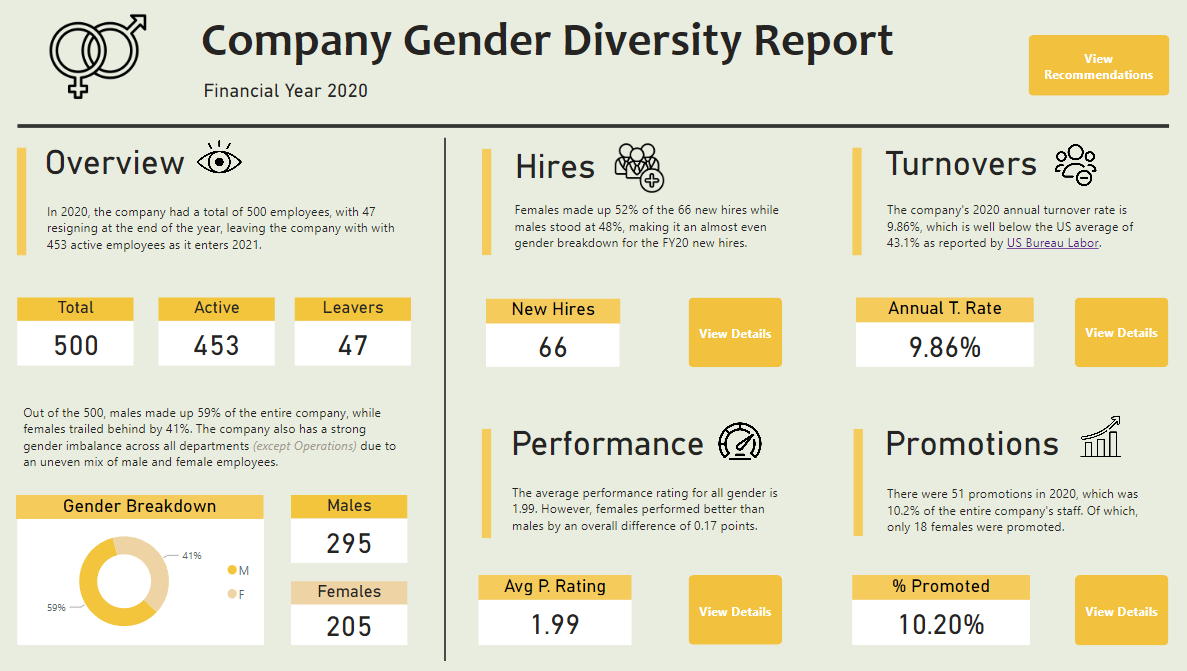

Layout of this report page (visuals, bound fields, positions):
{"tool":"powerbi","page":{"name":"Main Report","canvas":[1280,720],"ordinal":0},"visuals":[{"type":"shape","title":"Company Gender Diversity Report","box":[224.6,16,768.4,67.7],"z":0},{"type":"group","id":"g1","title":"Group 5","box":[27.7,323.2,123,71.3],"z":0,"group":"g11"},{"type":"card","fields":{"Values":["Measures.Employees.FY20 Total Employees All Gender Incl Leavers"]},"box":[27.7,348.1,124.2,47.5],"z":0,"group":"g1"},{"type":"card","fields":{"Values":["Measures.Employees.FY20 Total Employees All Gender Excl Leavers"]},"box":[178.1,348.1,124.2,47.5],"z":0,"group":"g3"},{"type":"card","fields":{"Values":["Measures.Turnover.FY20 Total Leavers All Gender"]},"box":[323.6,348.1,124.2,47.5],"z":0,"group":"g5"},{"type":"card","fields":{"Values":["Measures.Turnover.FY20 % Annual Turnover Rate"]},"box":[922,349.5,189.5,47],"z":0,"group":"g7"},{"type":"card","fields":{"Values":["Measures.Hires.FY20 Total New Hires All Gender"]},"box":[527.7,349.8,142.3,47],"z":0,"group":"g10"},{"type":"donutChart","fields":{"Y":["Measures.Employees.FY20 Total Employees All Gender Incl Leavers"],"Category":["FACT-table.Gender"]},"box":[27.8,557.7,263,136],"z":0,"group":"g6"},{"type":"card","fields":{"Values":["Measures.Employees.FY20 Total Male Employees"]},"box":[319.6,558,124.2,47.5],"z":0,"group":"g4"},{"type":"group","id":"g2","title":"Group 4","box":[319.8,625.7,124,68],"z":0,"group":"g12"},{"type":"card","fields":{"Values":["Measures.Performance.FY20 Avg Perf Rating All Gender"]},"box":[520.6,645.1,162.8,48.2],"z":0,"group":"g9"},{"type":"card","fields":{"Values":["Measures.Promotions.FY20 % of Promoted Employees Against Total Employees"]},"box":[918.1,645.1,189.3,48.2],"z":0,"group":"g8"},{"type":"card","fields":{"Values":["Measures.Employees.FY20 Total Female Employees"]},"box":[319.8,650.2,124.2,44.3],"z":0,"group":"g2"},{"type":"shape","title":"Annual T. Rate","box":[922,323,189.5,26.5],"z":1000,"group":"g7"},{"type":"shape","title":"Total","box":[27.7,323.2,124.2,24.9],"z":1000,"group":"g1"},{"type":"group","id":"g3","title":"Group 5","box":[178.1,323.2,123,71.3],"z":1000,"group":"g11"},{"type":"shape","title":"Active","box":[178.1,323.2,124.2,24.9],"z":1000,"group":"g3"},{"type":"shape","title":"Leavers","box":[323.6,323.2,124.2,24.9],"z":1000,"group":"g5"},{"type":"shape","title":"New Hires","box":[527.7,324.5,143.5,26.5],"z":1000,"group":"g10"},{"type":"shape","box":[521.1,462.2,14.5,117],"z":1000},{"type":"shape","title":"Gender Breakdown","box":[26.5,533.1,264.1,25.3],"z":1000,"group":"g6"},{"type":"group","id":"g4","title":"Group 5","box":[319.6,533.1,124.2,72.4],"z":1000,"group":"g12"},{"type":"shape","title":"Males","box":[319.6,533.1,124.2,24.9],"z":1000,"group":"g4"},{"type":"shape","title":"Avg P. Rating","box":[520.6,618.6,162.8,26.5],"z":1000,"group":"g9"},{"type":"shape","title":"% Promoted","box":[918.1,618.6,189.3,26.5],"z":1000,"group":"g8"},{"type":"shape","title":"Females","box":[319.8,625.7,124.2,24.5],"z":1000,"group":"g2"},{"type":"group","id":"g5","title":"Group 5","box":[323.6,323.2,123,71.3],"z":2000,"group":"g11"},{"type":"shape","box":[918,462,13,114],"z":2000},{"type":"group","id":"g6","title":"Group 1","box":[26.5,533.1,264.3,160.6],"z":2000,"group":"g12"},{"type":"shape","title":"Performance","box":[554,457,242,46],"z":3000},{"type":"shape","title":"Turnovers","box":[953,159,203,46],"z":4000},{"type":"shape","title":"Promotions","box":[953,457,243,46],"z":5000},{"type":"shape","title":"Financial Year 2020","box":[226.4,89.1,399.3,33.9],"z":6000},{"type":"shape","title":"Overview","box":[57.8,156.9,168.4,46.2],"z":7000},{"type":"shape","box":[27.5,120.9,1229.2,37.1],"z":8000},{"type":"shape","box":[27,162,12,115],"z":9000},{"type":"shape","box":[478.9,151.9,11.6,558.2],"z":10000},{"type":"shape","title":"Hires","box":[558.4,161.6,100.1,45.8],"z":11000},{"type":"group","id":"g7","title":"Group 7","box":[922,323,190,73],"z":12000},{"type":"group","id":"g8","title":"Group 8","box":[918.1,618.6,190.8,74.9],"z":13000},{"type":"textbox","box":[950.4,517.4,299.1,68.7],"z":14000},{"type":"textbox","box":[950.4,214.7,299.1,83.2],"z":15000},{"type":"group","id":"g9","title":"Group 9","box":[520.6,618.6,162.8,74.8],"z":16000},{"type":"shape","box":[917,162,13,115],"z":17000},{"type":"group","id":"g10","title":"Group 6","box":[527.7,324.5,142.6,73.1],"z":18000},{"type":"actionButton","box":[1156,323,100,74],"z":19000},{"type":"actionButton","box":[744.1,618.7,100.1,74.8],"z":20000},{"type":"actionButton","box":[1156,618,100,75],"z":21000},{"type":"textbox","box":[551.2,516.2,300.3,84.4],"z":22000},{"type":"group","id":"g11","title":"Group 13","box":[27.7,323.2,419.7,71.2],"z":23000},{"type":"shape","box":[522.3,164.1,12.1,113.4],"z":24000},{"type":"textbox","box":[553.6,214.7,299.1,84.4],"z":25000},{"type":"actionButton","box":[744.1,323.2,100.1,74.8],"z":26000},{"type":"textbox","box":[54.3,215.9,389.5,71.2],"z":27000},{"type":"textbox","box":[28.9,430.6,414.9,84.4],"z":28000},{"type":"image","box":[27.7,9.6,172.5,113.4],"z":29000},{"type":"image","box":[652.7,152.9,77.2,62.7],"z":30000},{"type":"image","box":[1105.2,140.1,102.6,82.3],"z":31000},{"type":"image","box":[767,436.6,63.9,79.6],"z":32000},{"type":"image","box":[1154.3,443.5,57.8,53.5],"z":33000},{"type":"image","box":[214.7,141.1,57.9,62.7],"z":34000},{"type":"group","id":"g12","title":"Group 2","box":[26.5,533.1,417.3,160.4],"z":35000},{"type":"actionButton","box":[1107,42,150,65],"z":36000}]}

Visuals, with their boxes in screenshot pixels (x1, y1, x2, y2), scaled from the page's 1280x720 canvas onto the 1187x671 screenshot:
"Company Gender Diversity Report" shape: {"x1": 208, "y1": 15, "x2": 921, "y2": 78}
"Group 5" group: {"x1": 26, "y1": 301, "x2": 140, "y2": 368}
card - Measures.Employees.FY20 Total Employees All Gender Incl Leavers: {"x1": 26, "y1": 324, "x2": 141, "y2": 369}
card - Measures.Employees.FY20 Total Employees All Gender Excl Leavers: {"x1": 165, "y1": 324, "x2": 280, "y2": 369}
card - Measures.Turnover.FY20 Total Leavers All Gender: {"x1": 300, "y1": 324, "x2": 415, "y2": 369}
card - Measures.Turnover.FY20 % Annual Turnover Rate: {"x1": 855, "y1": 326, "x2": 1031, "y2": 370}
card - Measures.Hires.FY20 Total New Hires All Gender: {"x1": 489, "y1": 326, "x2": 621, "y2": 370}
donutChart - Measures.Employees.FY20 Total Employees All Gender Incl Leavers x FACT-table.Gender: {"x1": 26, "y1": 520, "x2": 270, "y2": 646}
card - Measures.Employees.FY20 Total Male Employees: {"x1": 296, "y1": 520, "x2": 412, "y2": 564}
"Group 4" group: {"x1": 297, "y1": 583, "x2": 412, "y2": 646}
card - Measures.Performance.FY20 Avg Perf Rating All Gender: {"x1": 483, "y1": 601, "x2": 634, "y2": 646}
card - Measures.Promotions.FY20 % of Promoted Employees Against Total Employees: {"x1": 851, "y1": 601, "x2": 1027, "y2": 646}
card - Measures.Employees.FY20 Total Female Employees: {"x1": 297, "y1": 606, "x2": 412, "y2": 647}
"Annual T. Rate" shape: {"x1": 855, "y1": 301, "x2": 1031, "y2": 326}
"Total" shape: {"x1": 26, "y1": 301, "x2": 141, "y2": 324}
"Group 5" group: {"x1": 165, "y1": 301, "x2": 279, "y2": 368}
"Active" shape: {"x1": 165, "y1": 301, "x2": 280, "y2": 324}
"Leavers" shape: {"x1": 300, "y1": 301, "x2": 415, "y2": 324}
"New Hires" shape: {"x1": 489, "y1": 302, "x2": 622, "y2": 327}
shape: {"x1": 483, "y1": 431, "x2": 497, "y2": 540}
"Gender Breakdown" shape: {"x1": 25, "y1": 497, "x2": 269, "y2": 520}
"Group 5" group: {"x1": 296, "y1": 497, "x2": 412, "y2": 564}
"Males" shape: {"x1": 296, "y1": 497, "x2": 412, "y2": 520}
"Avg P. Rating" shape: {"x1": 483, "y1": 577, "x2": 634, "y2": 601}
"% Promoted" shape: {"x1": 851, "y1": 577, "x2": 1027, "y2": 601}
"Females" shape: {"x1": 297, "y1": 583, "x2": 412, "y2": 606}
"Group 5" group: {"x1": 300, "y1": 301, "x2": 414, "y2": 368}
shape: {"x1": 851, "y1": 431, "x2": 863, "y2": 537}
"Group 1" group: {"x1": 25, "y1": 497, "x2": 270, "y2": 646}
"Performance" shape: {"x1": 514, "y1": 426, "x2": 738, "y2": 469}
"Turnovers" shape: {"x1": 884, "y1": 148, "x2": 1072, "y2": 191}
"Promotions" shape: {"x1": 884, "y1": 426, "x2": 1109, "y2": 469}
"Financial Year 2020" shape: {"x1": 210, "y1": 83, "x2": 580, "y2": 115}
"Overview" shape: {"x1": 54, "y1": 146, "x2": 210, "y2": 189}
shape: {"x1": 26, "y1": 113, "x2": 1165, "y2": 147}
shape: {"x1": 25, "y1": 151, "x2": 36, "y2": 258}
shape: {"x1": 444, "y1": 142, "x2": 455, "y2": 662}
"Hires" shape: {"x1": 518, "y1": 151, "x2": 611, "y2": 193}
"Group 7" group: {"x1": 855, "y1": 301, "x2": 1031, "y2": 369}
"Group 8" group: {"x1": 851, "y1": 577, "x2": 1028, "y2": 646}
textbox: {"x1": 881, "y1": 482, "x2": 1159, "y2": 546}
textbox: {"x1": 881, "y1": 200, "x2": 1159, "y2": 278}
"Group 9" group: {"x1": 483, "y1": 577, "x2": 634, "y2": 646}
shape: {"x1": 850, "y1": 151, "x2": 862, "y2": 258}
"Group 6" group: {"x1": 489, "y1": 302, "x2": 622, "y2": 371}
actionButton: {"x1": 1072, "y1": 301, "x2": 1165, "y2": 370}
actionButton: {"x1": 690, "y1": 577, "x2": 783, "y2": 646}
actionButton: {"x1": 1072, "y1": 576, "x2": 1165, "y2": 646}
textbox: {"x1": 511, "y1": 481, "x2": 790, "y2": 560}
"Group 13" group: {"x1": 26, "y1": 301, "x2": 415, "y2": 368}
shape: {"x1": 484, "y1": 153, "x2": 496, "y2": 259}
textbox: {"x1": 513, "y1": 200, "x2": 791, "y2": 279}
actionButton: {"x1": 690, "y1": 301, "x2": 783, "y2": 371}
textbox: {"x1": 50, "y1": 201, "x2": 412, "y2": 268}
textbox: {"x1": 27, "y1": 401, "x2": 412, "y2": 480}
image: {"x1": 26, "y1": 9, "x2": 186, "y2": 115}
image: {"x1": 605, "y1": 142, "x2": 677, "y2": 201}
image: {"x1": 1025, "y1": 131, "x2": 1120, "y2": 207}
image: {"x1": 711, "y1": 407, "x2": 771, "y2": 481}
image: {"x1": 1070, "y1": 413, "x2": 1124, "y2": 463}
image: {"x1": 199, "y1": 131, "x2": 253, "y2": 190}
"Group 2" group: {"x1": 25, "y1": 497, "x2": 412, "y2": 646}
actionButton: {"x1": 1027, "y1": 39, "x2": 1166, "y2": 100}
